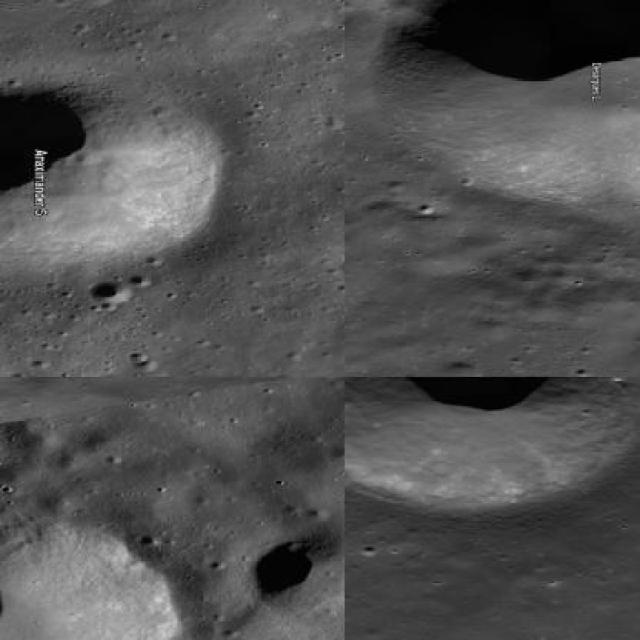crater: (360, 0, 638, 208), (0, 81, 218, 278), (345, 377, 632, 512), (0, 504, 185, 638), (252, 537, 343, 615), (89, 280, 129, 305)
